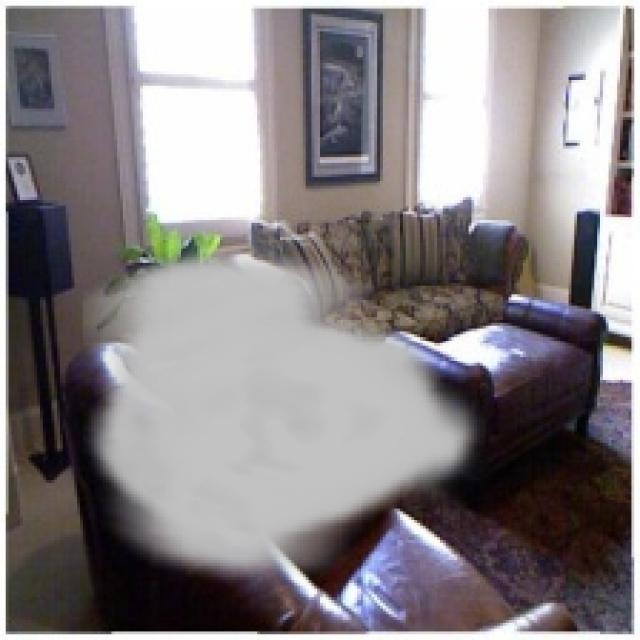smoke: (83, 246, 486, 588)
